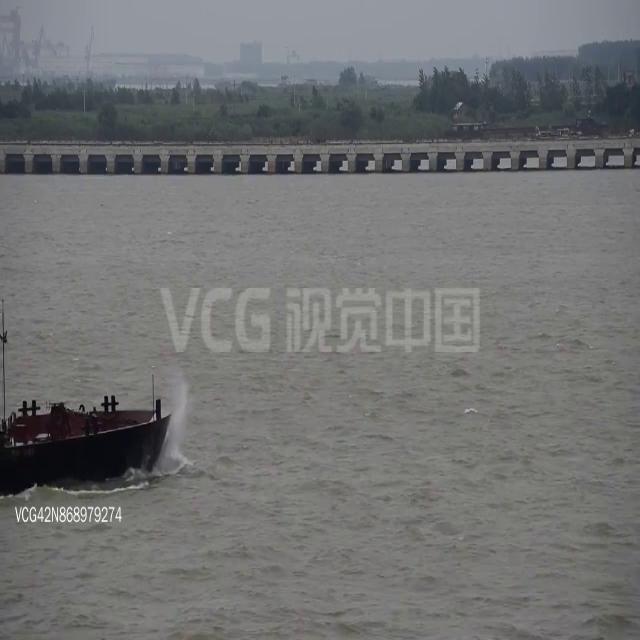houseboat: (0, 322, 170, 497)
